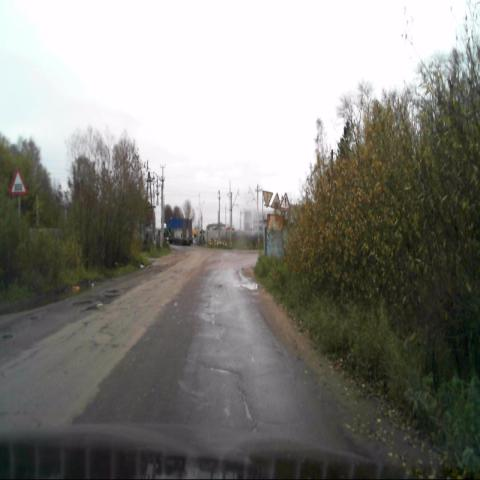1_1: (10, 169, 27, 197)
